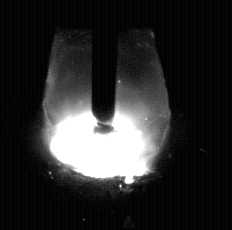arame: (92, 0, 117, 134)
poca: (41, 0, 169, 230)
